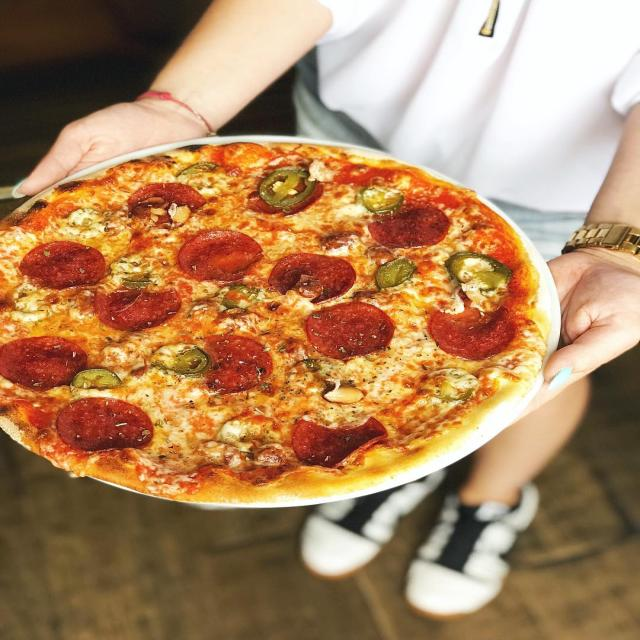pepperoni: (427, 288, 516, 362), (301, 302, 396, 364), (56, 398, 155, 456), (290, 416, 389, 470), (265, 252, 360, 305), (0, 336, 88, 391), (194, 334, 274, 394), (177, 230, 264, 285), (94, 284, 187, 335), (19, 241, 108, 292), (128, 183, 204, 232), (370, 208, 450, 251), (246, 179, 325, 217)
pizza: (0, 137, 561, 511)
